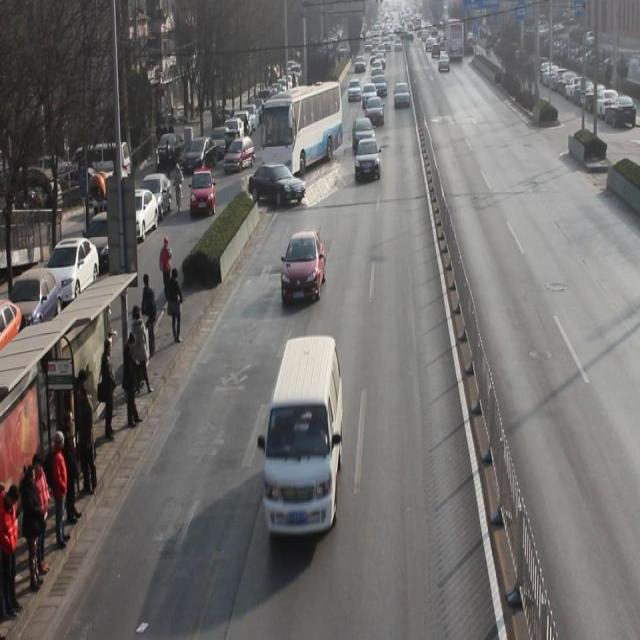car: (280, 230, 327, 308), (249, 160, 306, 207), (354, 138, 382, 181), (353, 119, 377, 155), (365, 97, 385, 126)
truck: (263, 339, 344, 537)
van: (260, 79, 342, 172)
